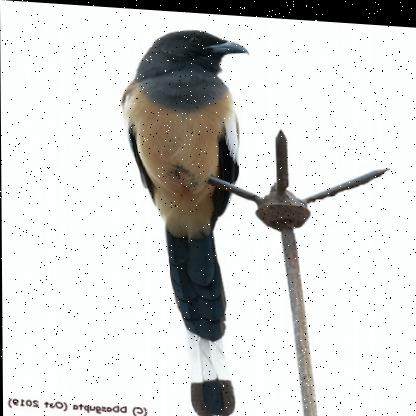Burung: (123, 22, 253, 415)
